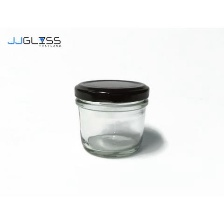bottle: (68, 73, 155, 160)
